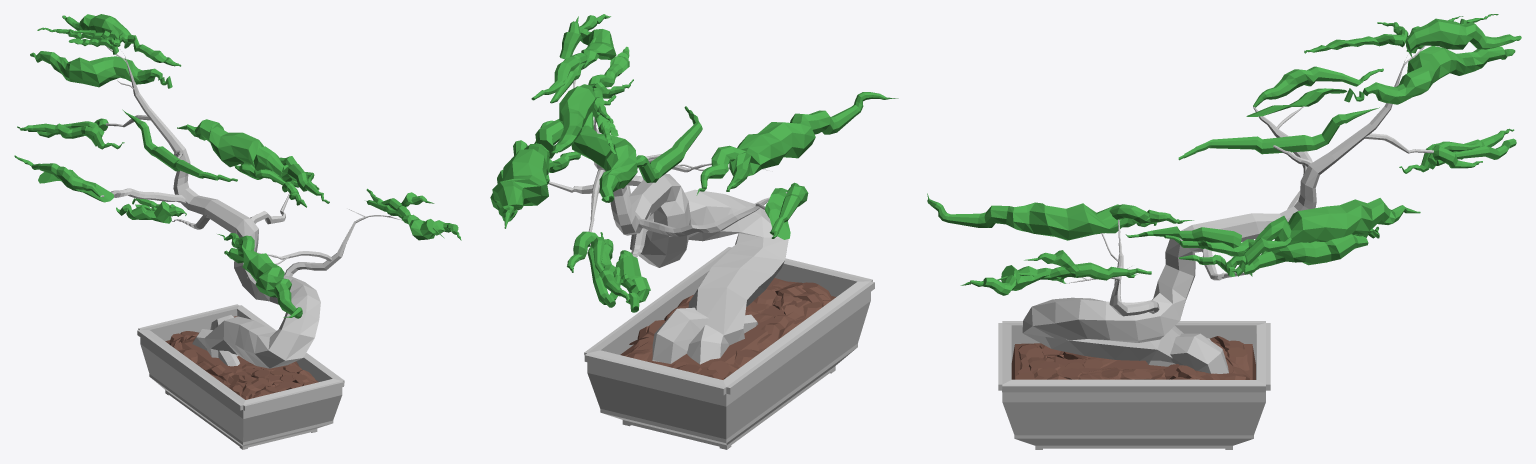
File: BonsaiStandard.obj
3 renders of one model, left to right at view 1: azimuth 30°, elevation 25°; view 2: azimuth 150°, elevation 25°; view 3: azimuth 270°, elevation 25°, orthographic. The views are drawn at different scales.
Size of the model in its own units: 2.78 by 2.84 by 3.85.
